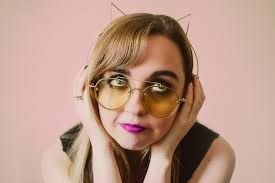no-mask: (82, 17, 194, 146)
